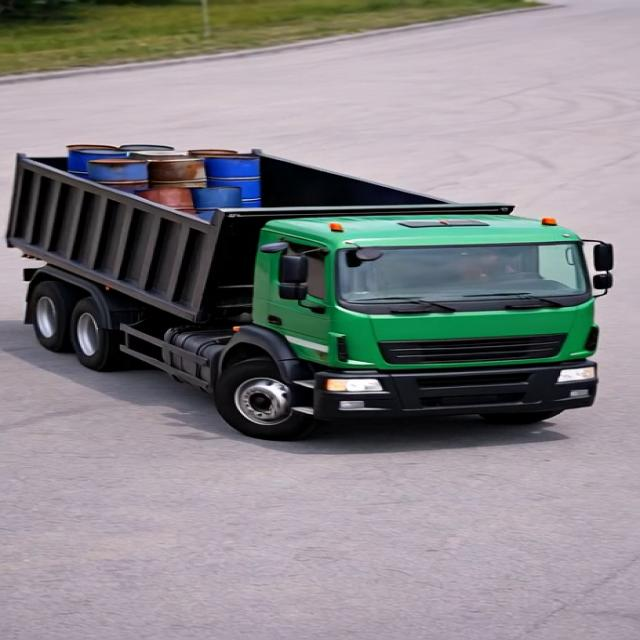Box: (12, 148, 525, 222)
Truck: (24, 122, 624, 434)
